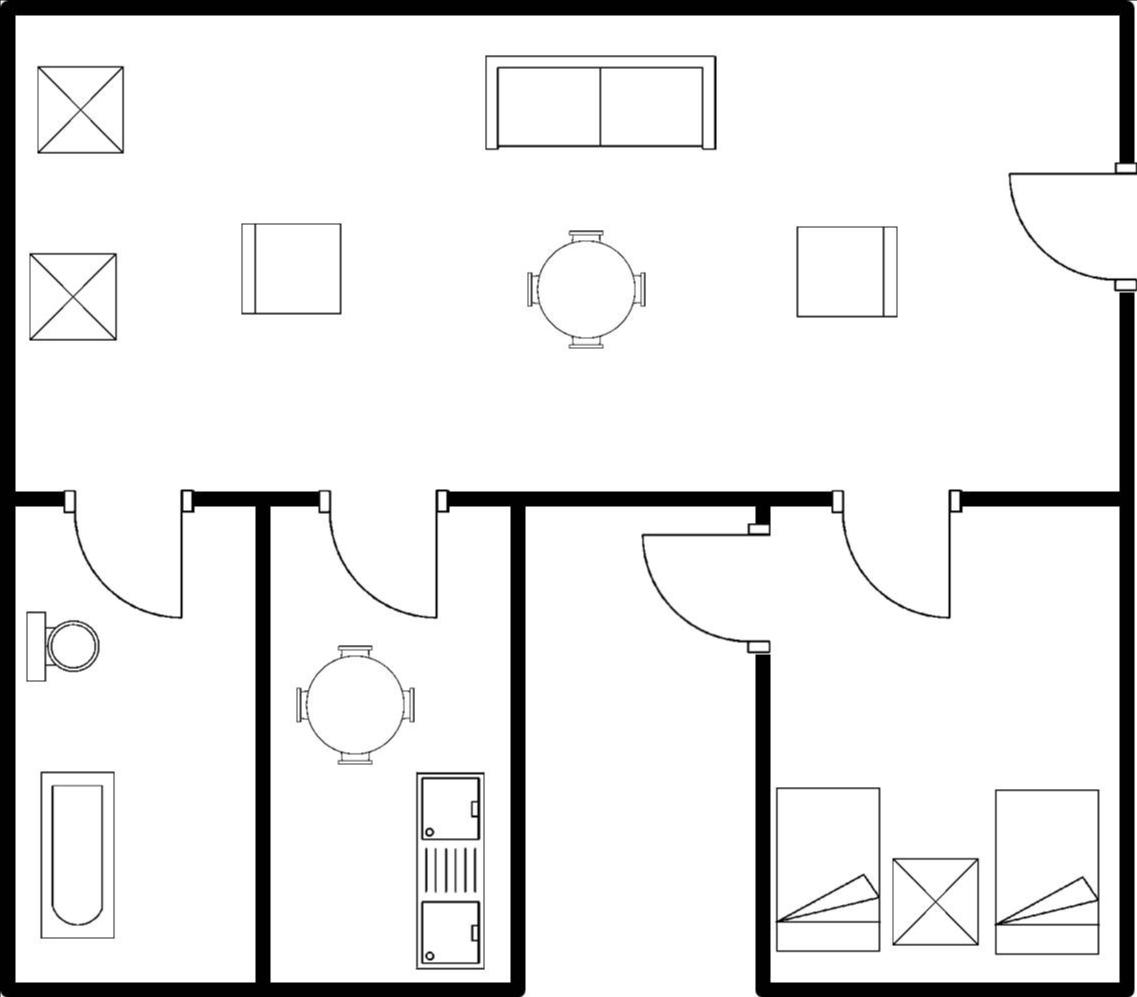sink: (406, 764, 490, 975)
